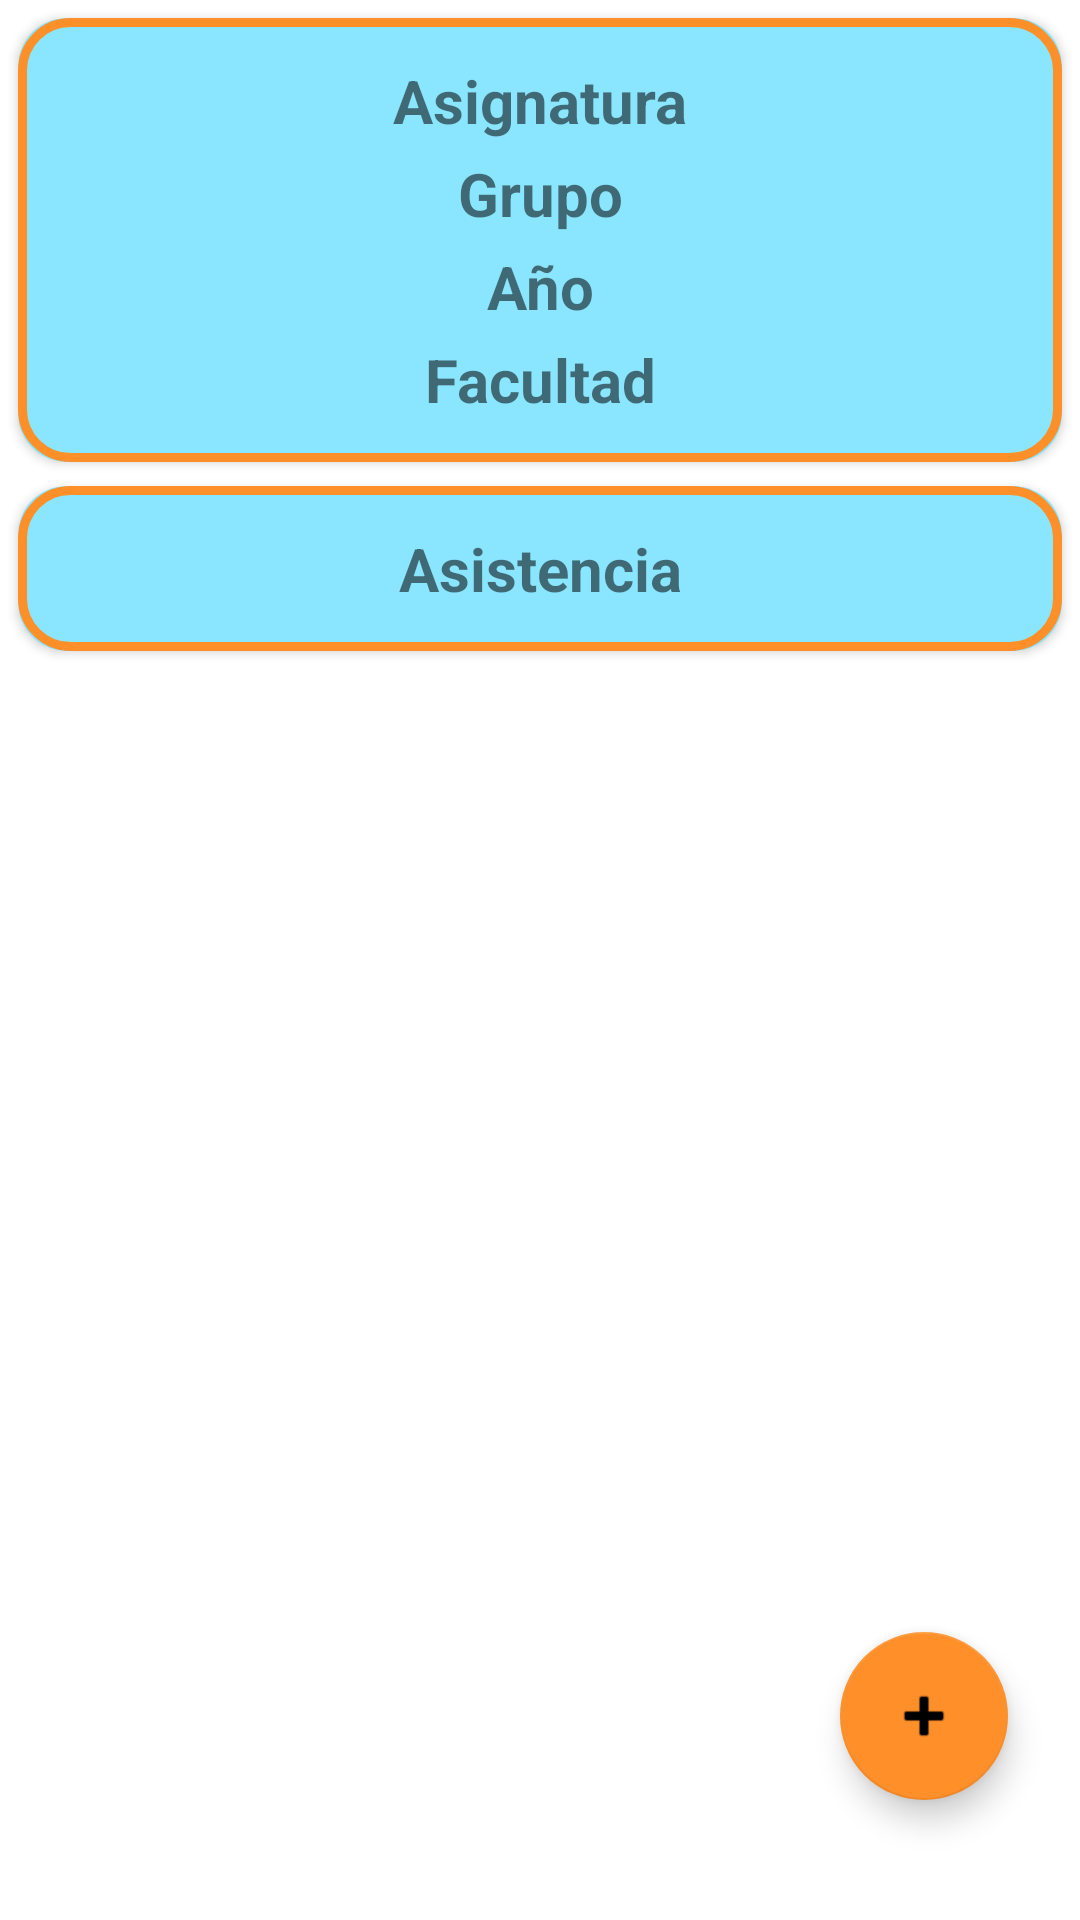

Icon bounding boxes for this 1080px×1920px phone screenshot, format Rect(x1, y1, x2, y2):
add: Rect(840, 1632, 1008, 1800)
